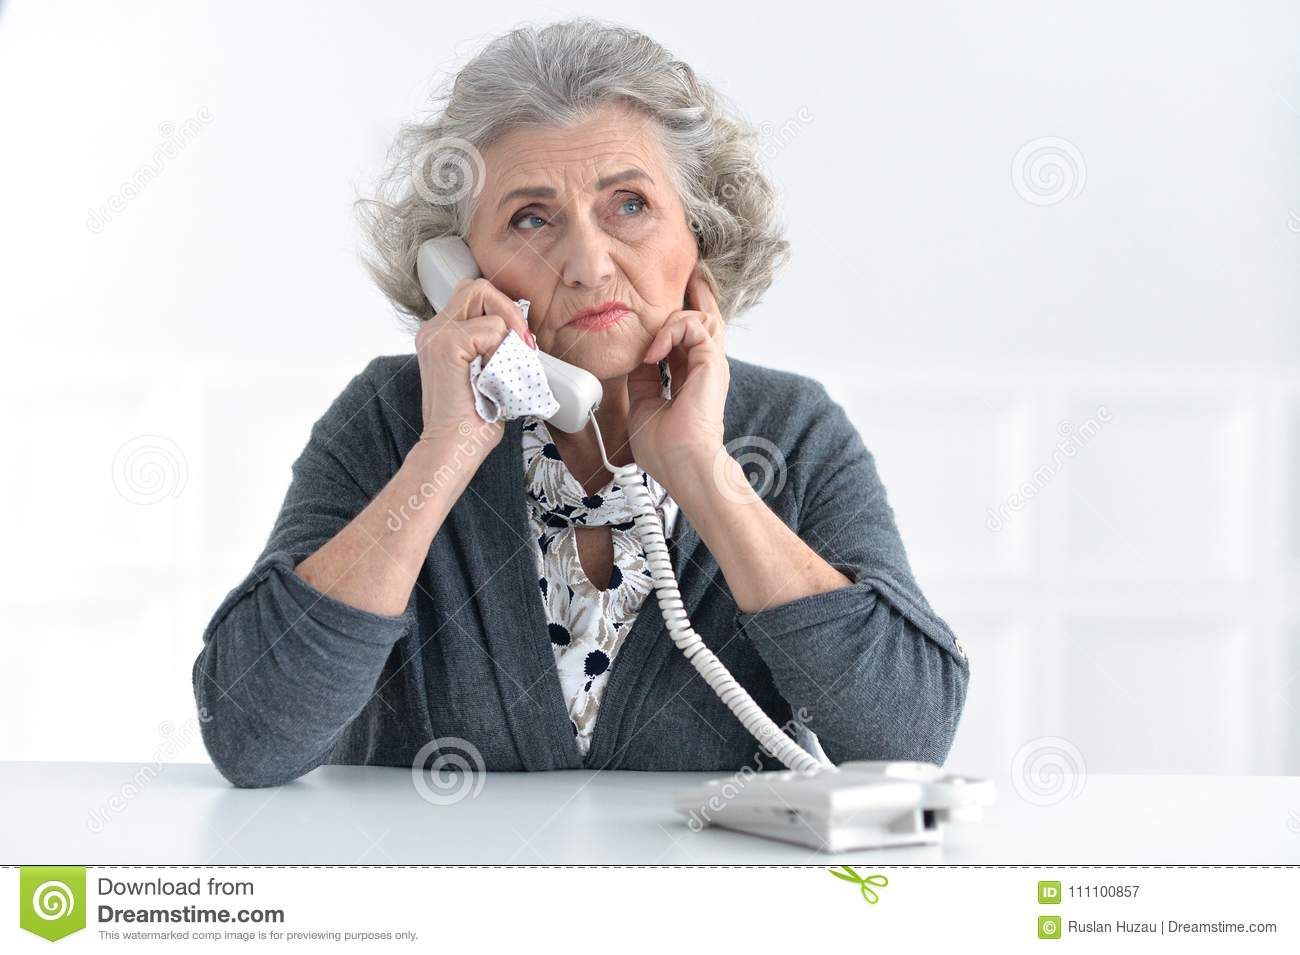phone: (412, 231, 598, 442)
talk: (409, 168, 668, 473)
